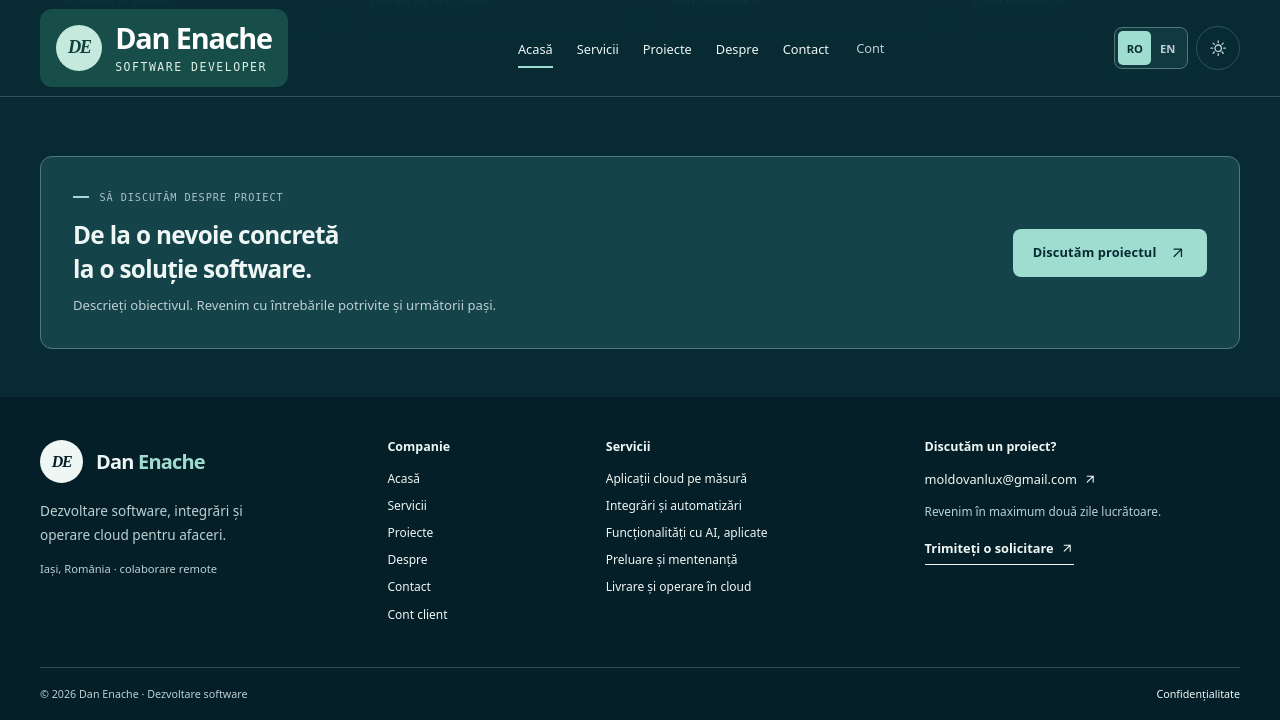
Test case: pagina de confidențialitate › este accesibilă din subsol și identifică operatorul
(page scrolled)
Click the link "Confidențialitate".
click(1198, 694)  # box [1156,686,1240,703]
(page scrolled)
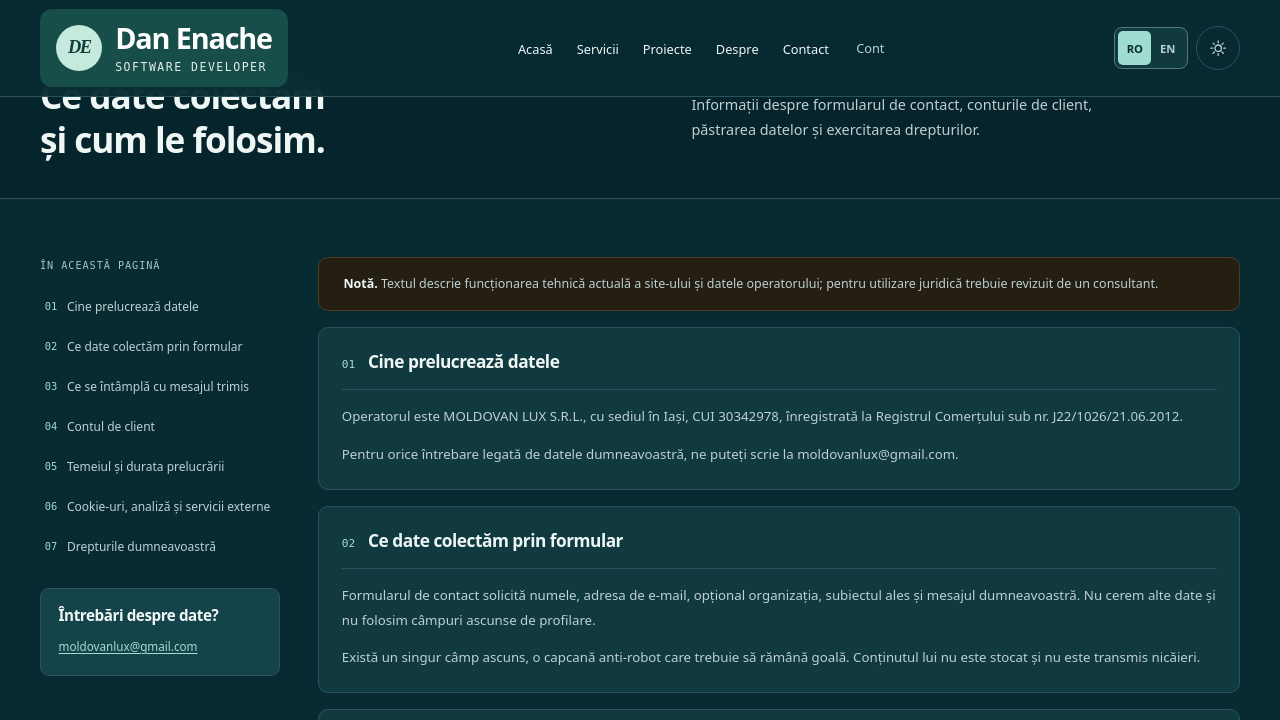
Now the heading "Ce date colectăm și cum le folosim." is shown, box [40,71,325,163]
Now the text "Operatorul este MOLDOVAN LUX S.R.L." is shown, box [342,408,1183,426]
